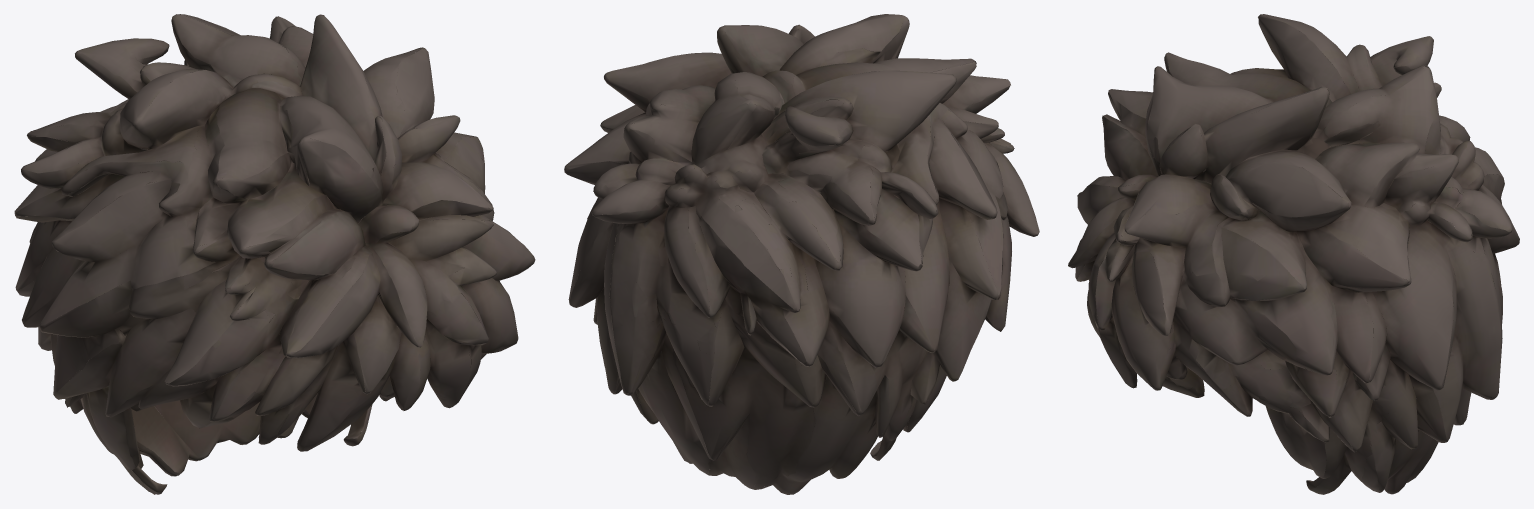
The model's file is hair_m04.glb.
3 renders of one model, left to right at view 1: azimuth 30°, elevation 25°; view 2: azimuth 150°, elevation 25°; view 3: azimuth 270°, elevation 25°, orthographic. The views are drawn at different scales.
Parts seen in each view (by area): view 1: hair; view 2: hair; view 3: hair.
Part boxes in pixels (bbox=[...]): hair: bbox=[14, 14, 535, 494]; hair: bbox=[564, 14, 1039, 494]; hair: bbox=[1068, 14, 1519, 494].
Bounding box in the file's own units: 2.54 × 2.55 × 2.5.
1 material, 1 textured.
